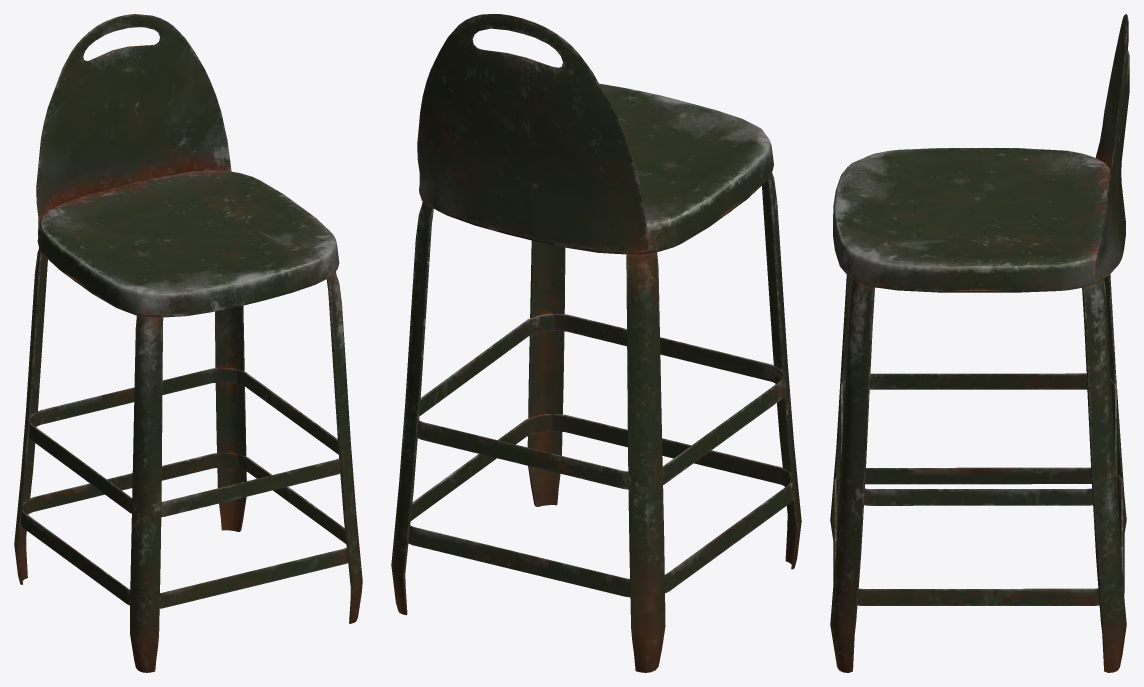
File: metal_stool_03_512.glb
3 views of the same model, side by side, from view 1: azimuth 30°, elevation 25°; view 2: azimuth 150°, elevation 25°; view 3: azimuth 270°, elevation 25° (orthographic). The views are drawn at different scales.
Visible parts, largest first — view 1: metal_stool_03; view 2: metal_stool_03; view 3: metal_stool_03.
Boxes of the visible parts, x1,y1,x2,y2 form: metal_stool_03: (14, 14, 362, 672); metal_stool_03: (391, 14, 801, 672); metal_stool_03: (830, 14, 1129, 672).
Bounding box in the file's own units: 0.4606 × 1.02 × 0.4699.
1 material, 1 textured.
